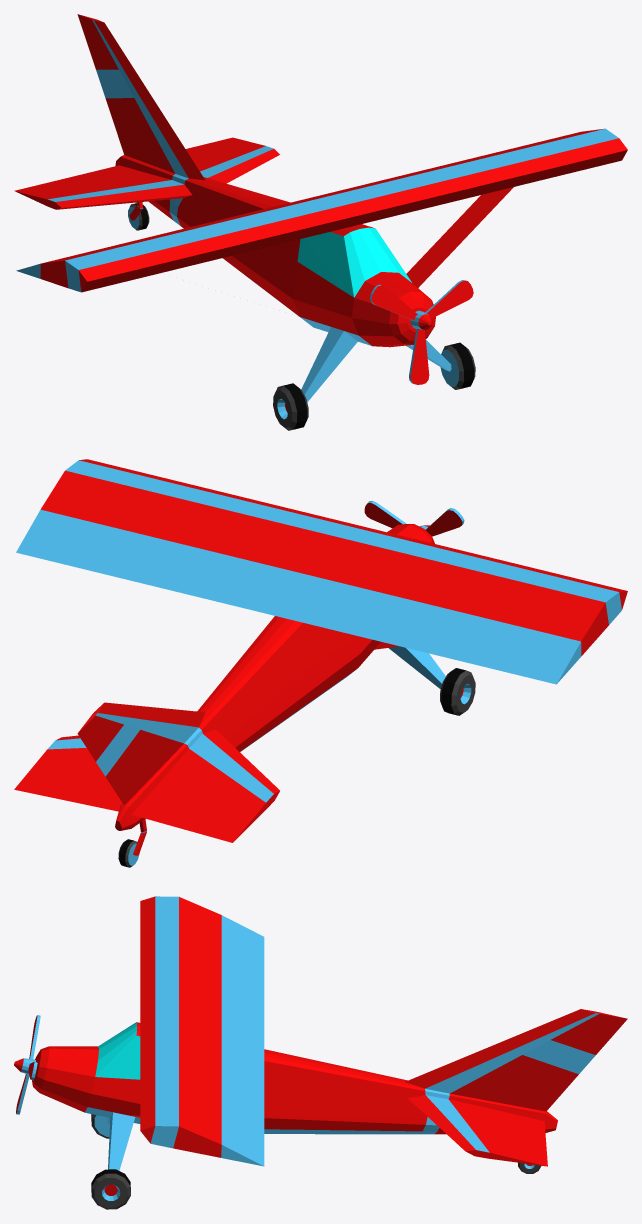
Rendered from magic-low-poly-airplane.glb.
The picture shows the model from 3 angles, top to bottom: view 1: azimuth 30°, elevation 25°; view 2: azimuth 150°, elevation 25°; view 3: azimuth 270°, elevation 25°; orthographic projection. The views are drawn at different scales.
Parts seen in each view (by area): view 1: Plane.002, Plane, Plane.001, Tail, Circle, Plane.008, Plane.003, wing, wing.002, wing.001; view 2: Plane.002, Plane, Plane.001, Tail, Circle, Plane.003, wing.001, wing.002; view 3: Plane.002, Plane, Tail, Plane.001, Circle, Plane.003.
Part boxes in pixels (<box>): Plane.002: <box>16,128,627,292</box>; Plane: <box>115,155,435,347</box>; Plane.001: <box>14,137,279,209</box>; Tail: <box>77,14,205,180</box>; Circle: <box>273,342,475,430</box>; Plane.008: <box>406,187,513,287</box>; Plane.003: <box>301,327,451,401</box>; wing: <box>409,329,429,384</box>; wing.002: <box>425,280,473,318</box>; wing.001: <box>370,284,417,320</box>; Plane.002: <box>16,459,627,684</box>; Plane: <box>115,524,434,830</box>; Plane.001: <box>14,729,279,842</box>; Tail: <box>77,702,205,805</box>; Circle: <box>440,668,475,715</box>; Plane.003: <box>389,646,445,689</box>; wing.001: <box>425,508,464,536</box>; wing.002: <box>364,500,406,528</box>; Plane.002: <box>140,896,264,1166</box>; Plane: <box>32,1022,557,1134</box>; Tail: <box>405,1009,627,1111</box>; Plane.001: <box>408,1095,547,1166</box>; Circle: <box>91,1114,130,1209</box>; Plane.003: <box>107,1112,135,1170</box>.
Bounding box in the file's own units: 8 × 2.65 × 9.04.
